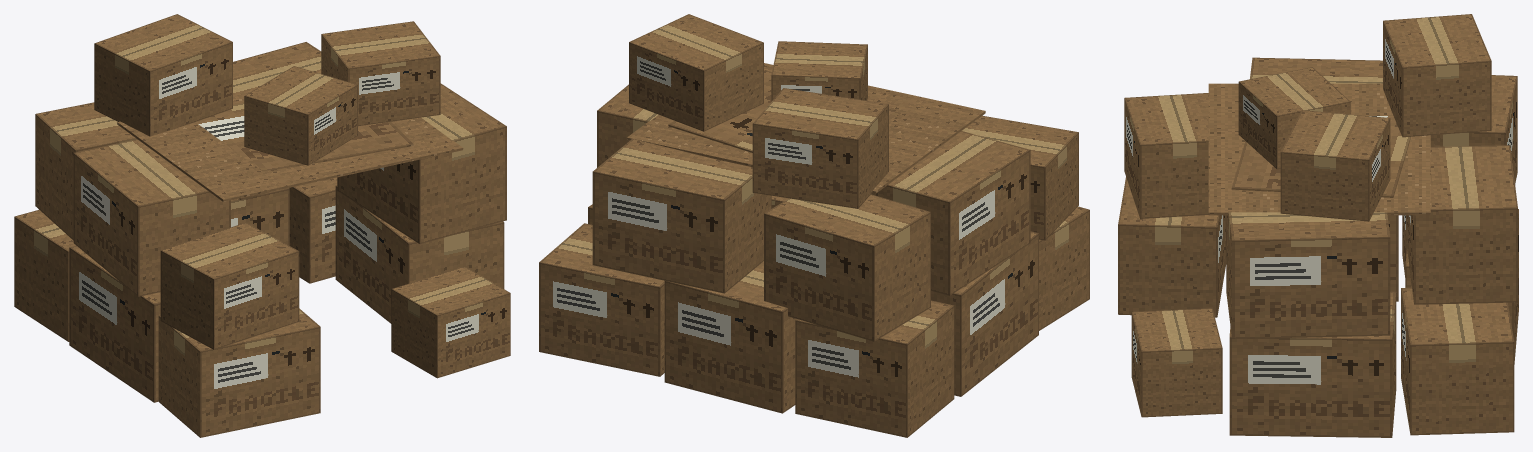
The model's file is box_pile_hide.glb.
The picture shows the model from 3 angles, left to right: view 1: azimuth 30°, elevation 25°; view 2: azimuth 150°, elevation 25°; view 3: azimuth 270°, elevation 25°; orthographic projection. The views are drawn at different scales.
Parts seen in each view (by area): view 1: BoxPile; view 2: BoxPile; view 3: BoxPile.
Boxes of the visible parts, x1,y1,x2,y2 form: BoxPile: (14,14,510,437); BoxPile: (539,14,1089,437); BoxPile: (1118,14,1518,437).
Bounding box in the file's own units: 1.93 × 1.33 × 1.77.
Materials: 2 (2 with a texture image).
